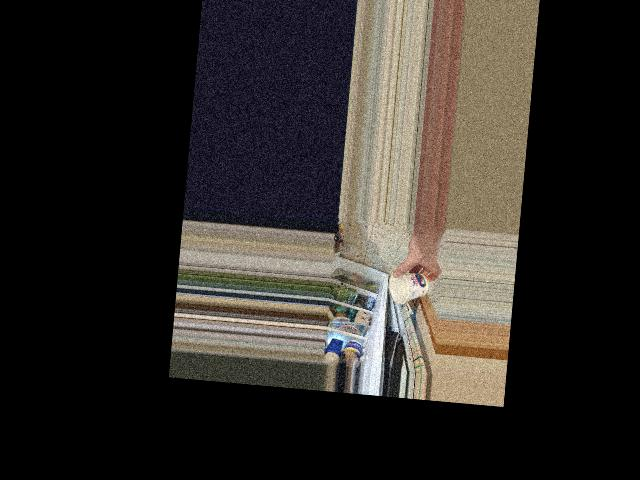cotage: (394, 267, 430, 309)
